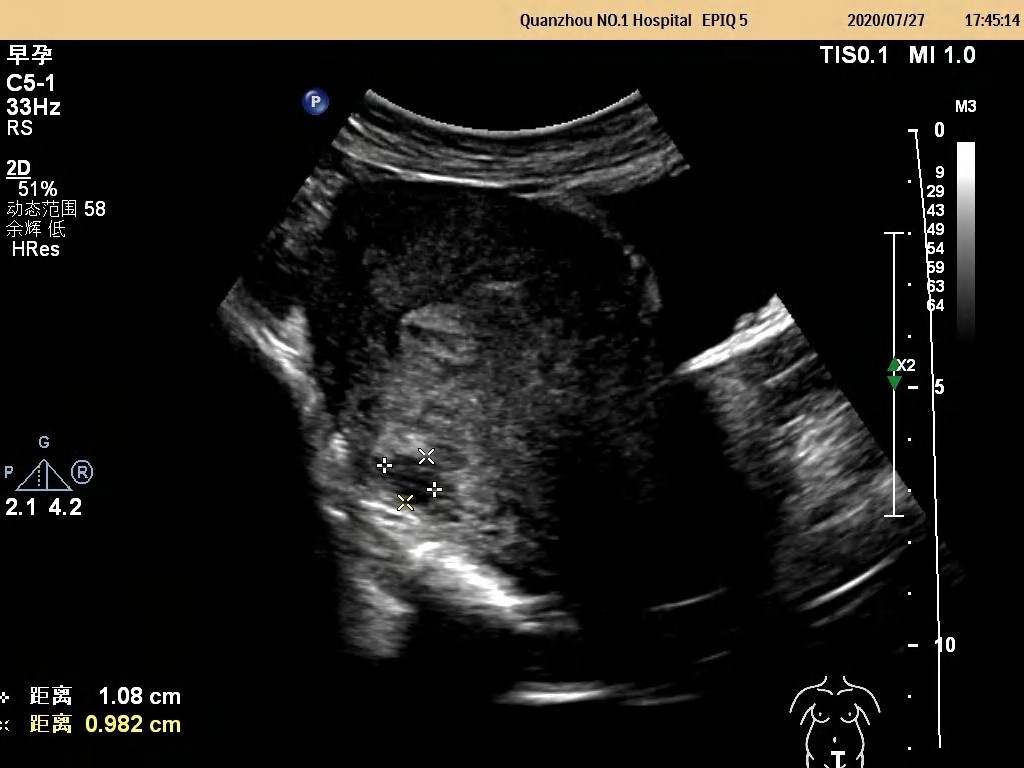肌瘤: (383, 453, 436, 503)
